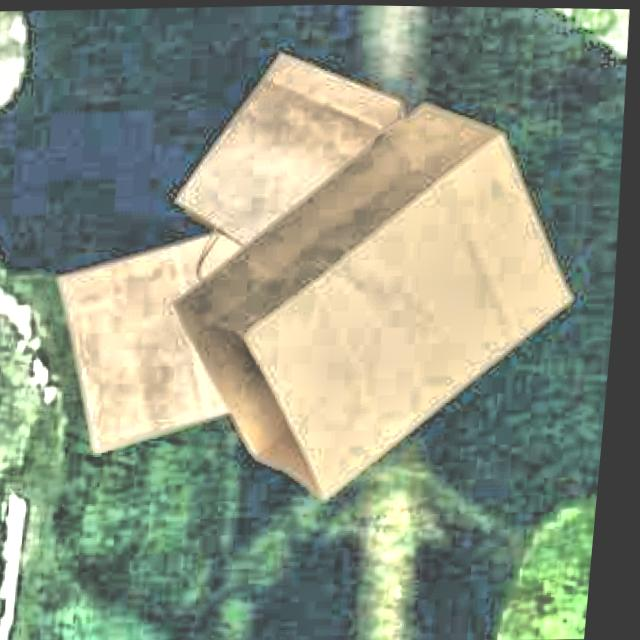Paper-bag: (153, 90, 612, 526), (35, 211, 398, 471), (160, 50, 438, 304)
